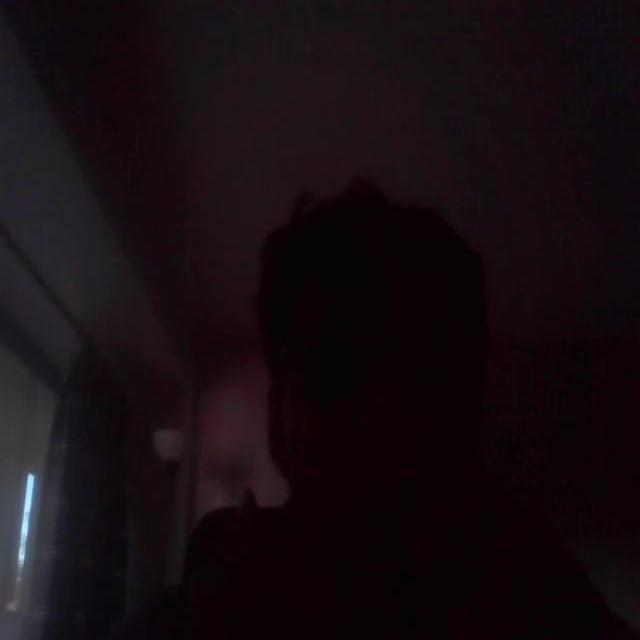Thanx: (204, 433, 598, 640)
